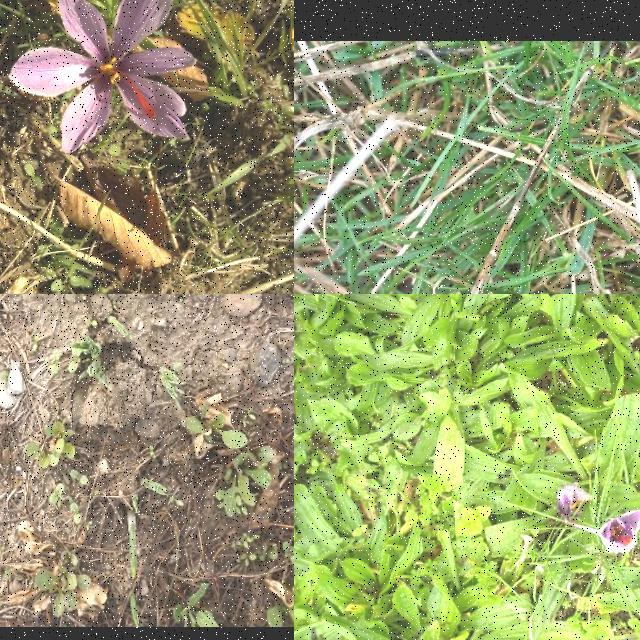flower: (8, 0, 195, 154), (599, 510, 640, 554)
